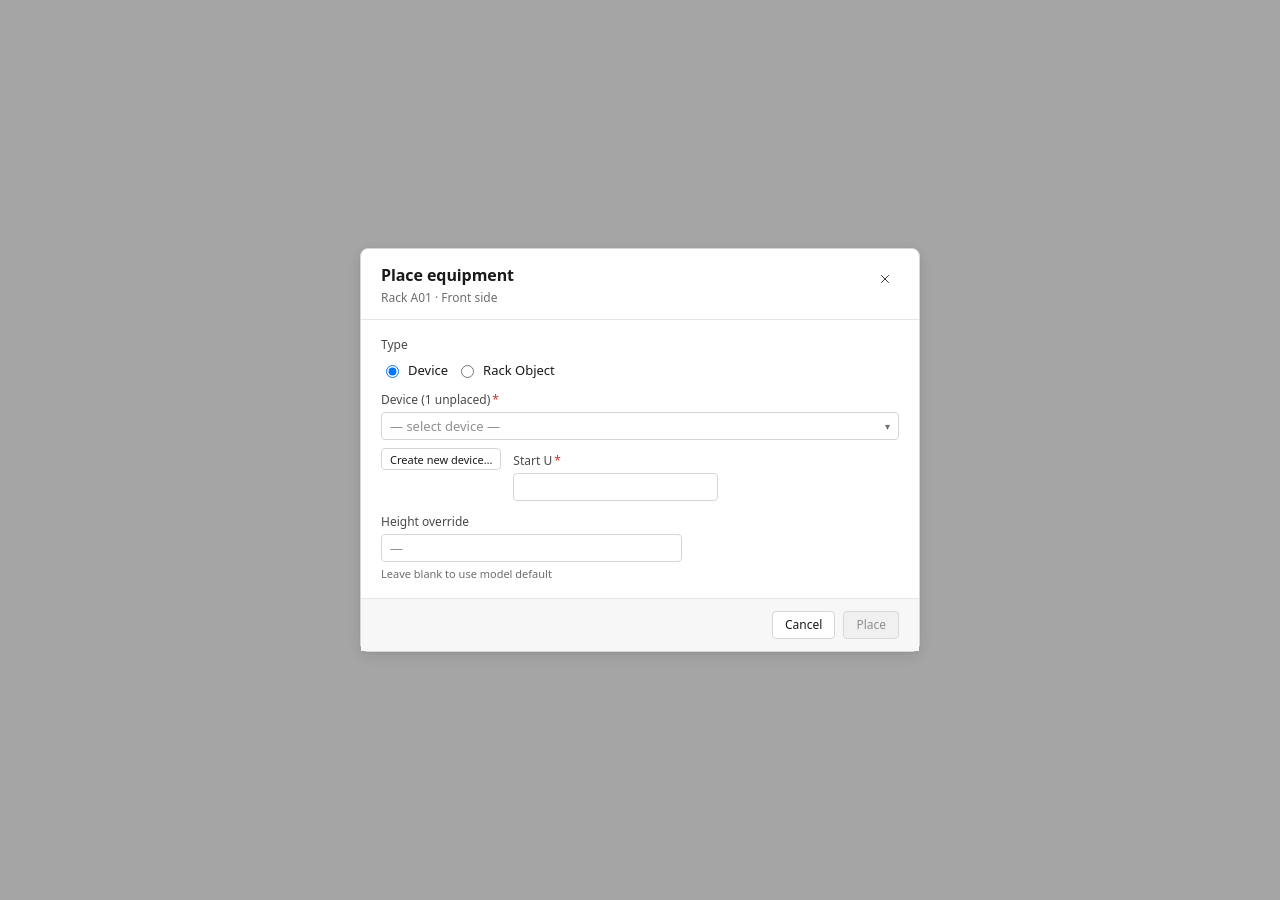
Test: PlacePlacementModal — open › shows validation error when start U is missing
The width and height of the screenshot is (1280, 900).
Click the button with test id "device-select-trigger": (445, 426) [381,412,899,440]
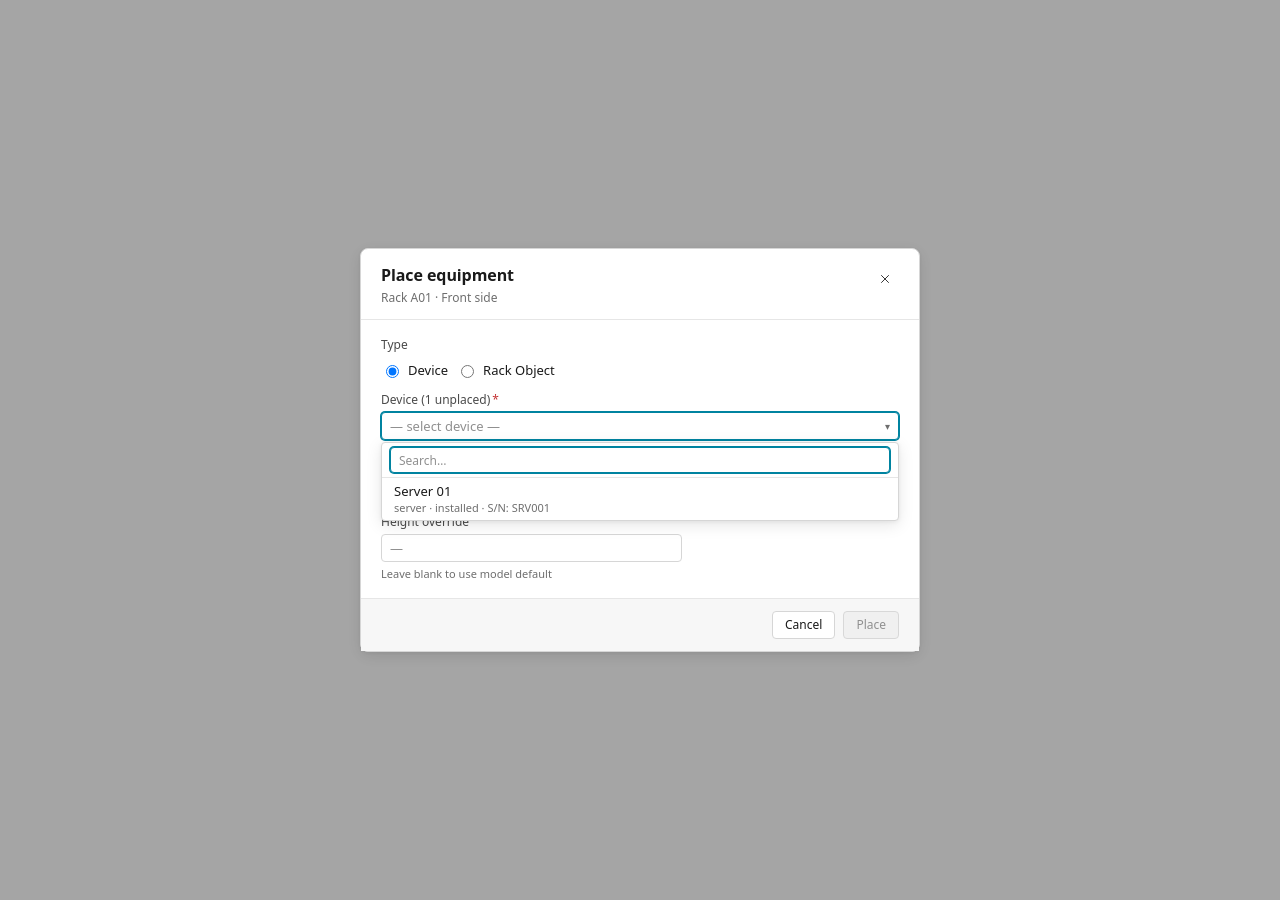
Press the mouse on the option with class "ss-option": (472, 499) [394,482,550,515]
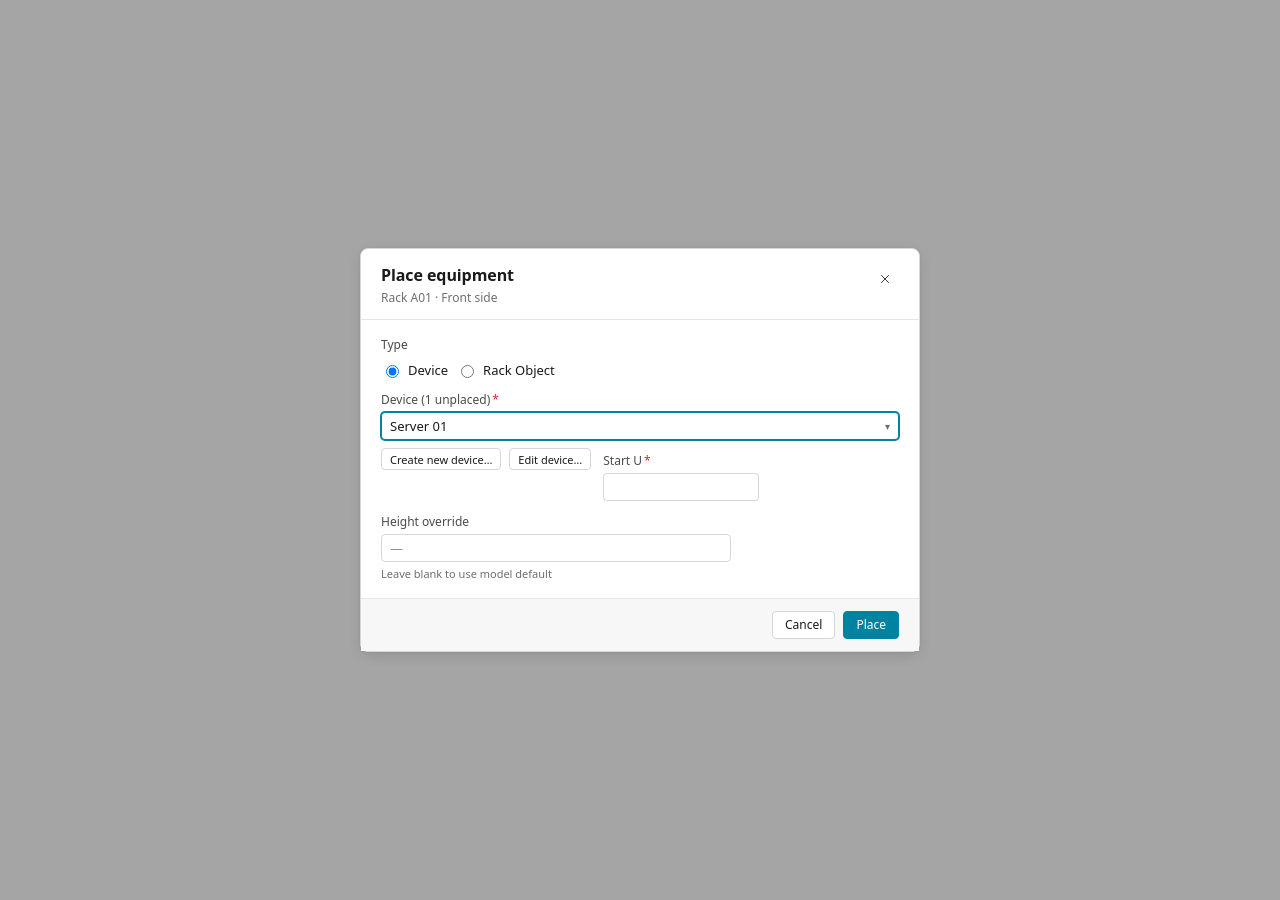
Clear the number field with test id "start-u-input": (681, 487) [603,473,759,501]
Expected: the button with test id "place-btn" is enabled
Click the button with test id "place-btn": (871, 625) [843,611,899,639]
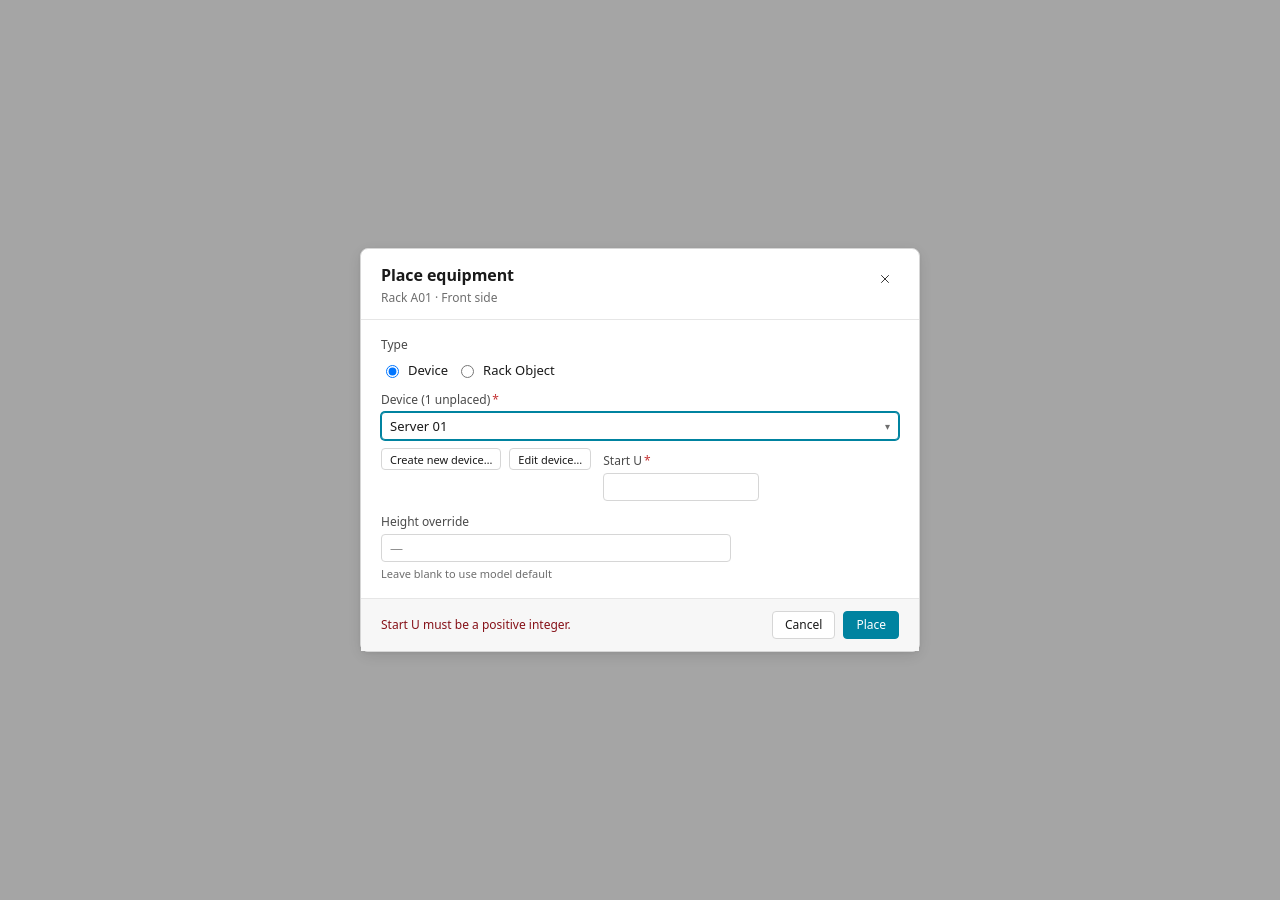
Expected: the text "Start U must be a positive integer." is shown, [381,616,571,633]
